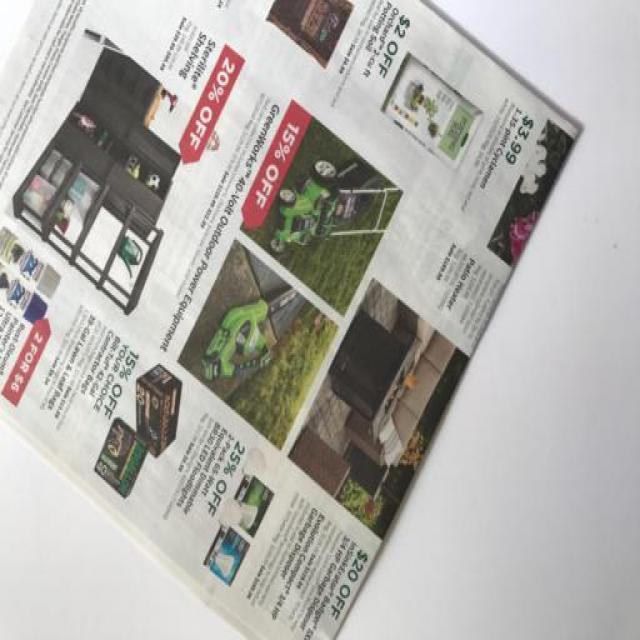paper: (8, 7, 565, 620)
